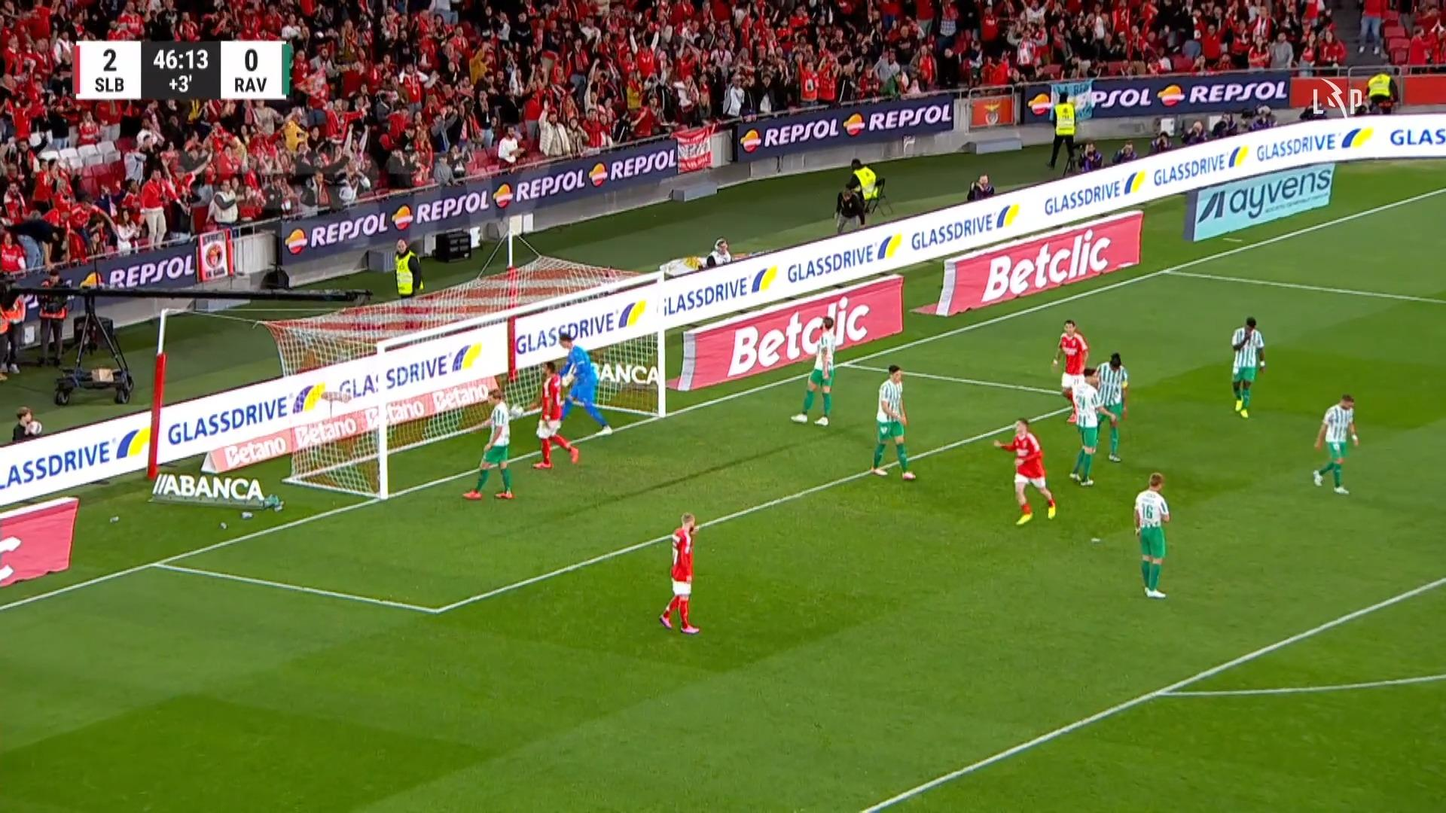goalkeeper: (556, 331, 613, 437)
player: (992, 417, 1056, 525), (1066, 365, 1117, 486), (462, 387, 514, 500), (869, 364, 916, 480), (529, 360, 579, 469), (657, 512, 701, 634), (790, 315, 837, 425), (1311, 393, 1359, 494), (1132, 471, 1170, 598), (1051, 318, 1088, 423), (1094, 351, 1129, 461), (1229, 315, 1265, 418)
